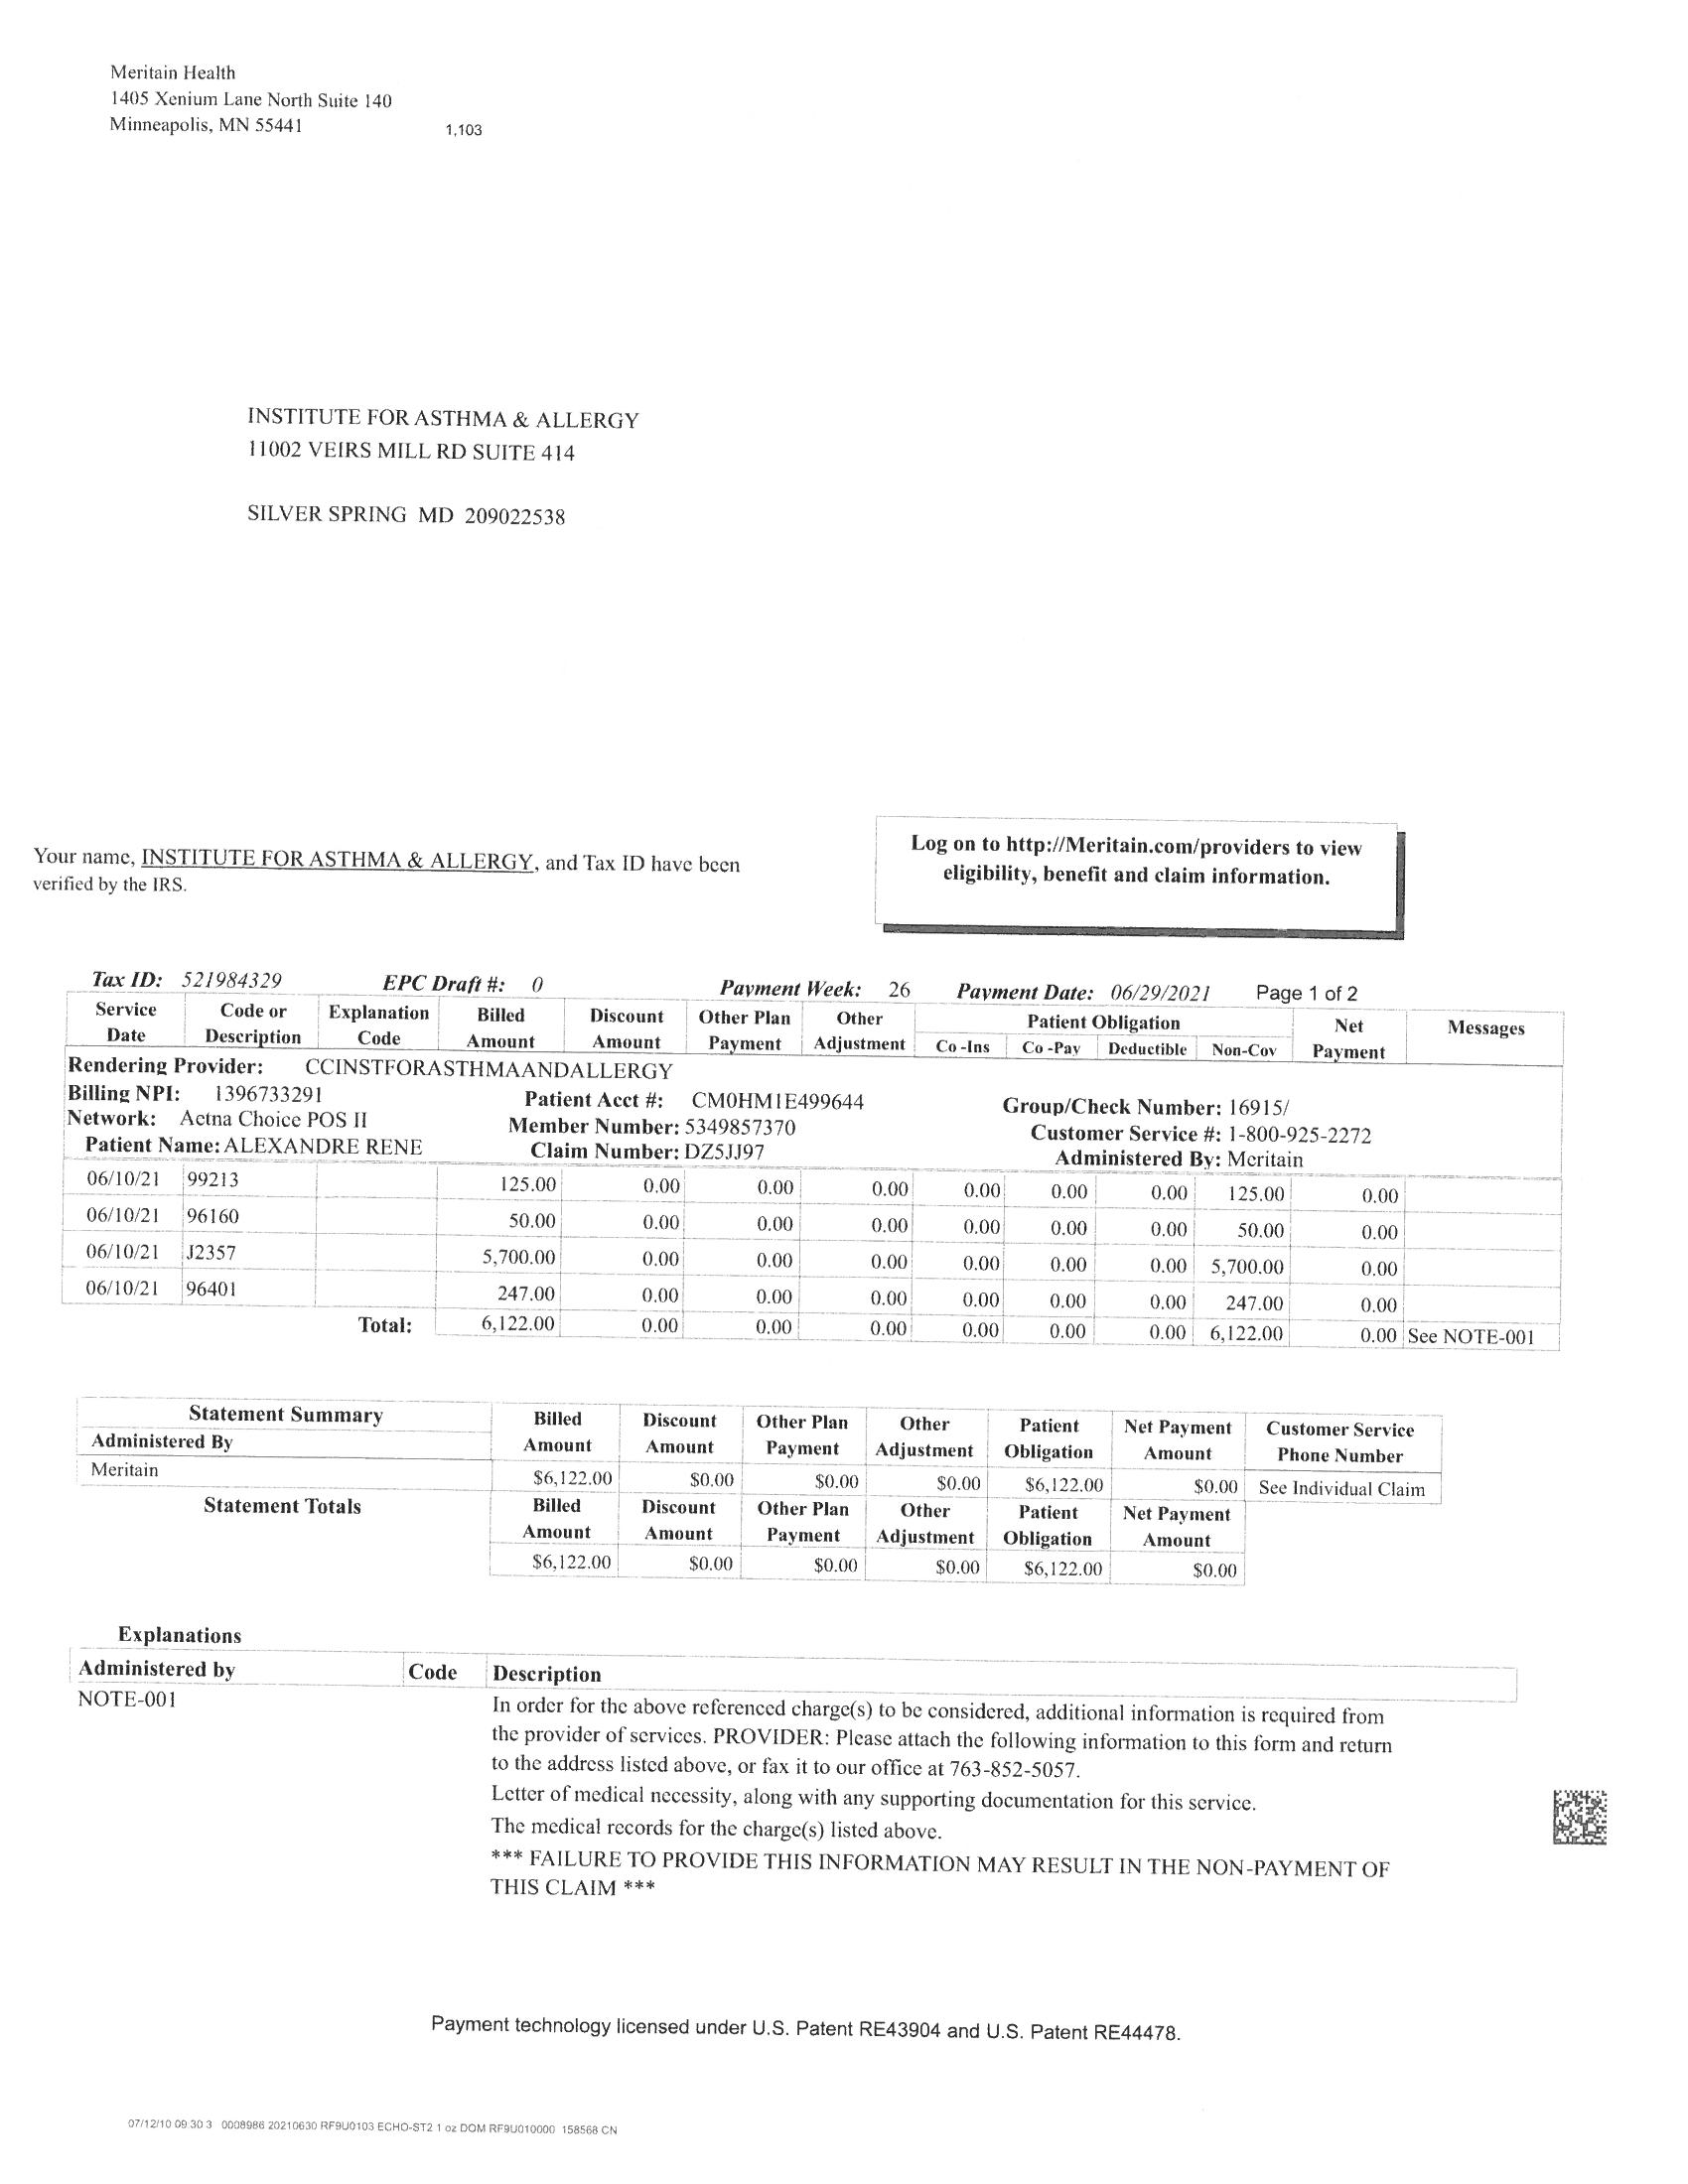data: (62, 1049, 1379, 1172)
table: (53, 955, 1583, 1338), (62, 1381, 1468, 1587), (213, 388, 670, 477)
